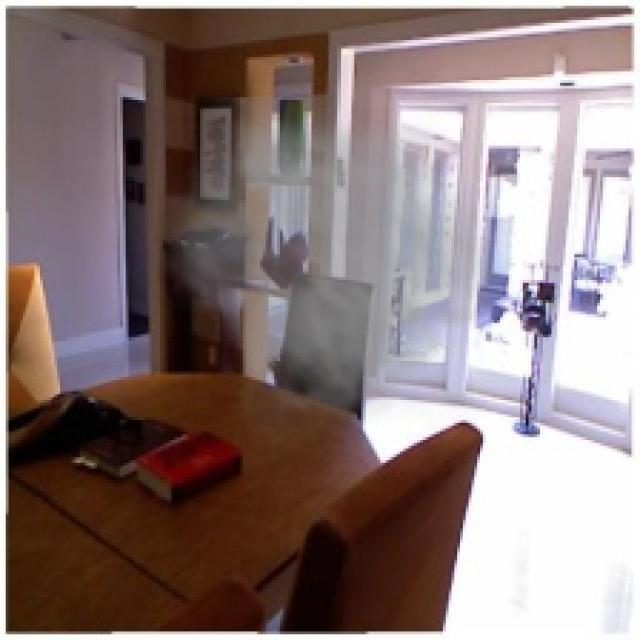Smoke: (146, 97, 514, 457)
